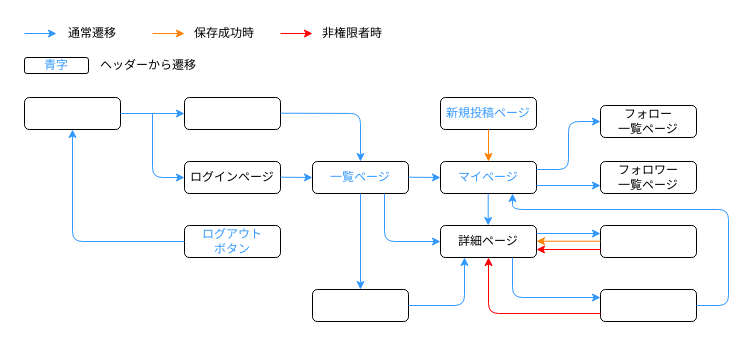
This 754x339 diagram has some shape labels left out. The shapes that lost their labels are listed below. From the top down, each one's centre as x and y in pixels, then its label:
(x=72, y=113): トップページ
(x=232, y=113): 新規登録ページ
(x=648, y=241): 編集ページ
(x=360, y=305): マッチング 一覧ページ
(x=648, y=305): 削除ページ
